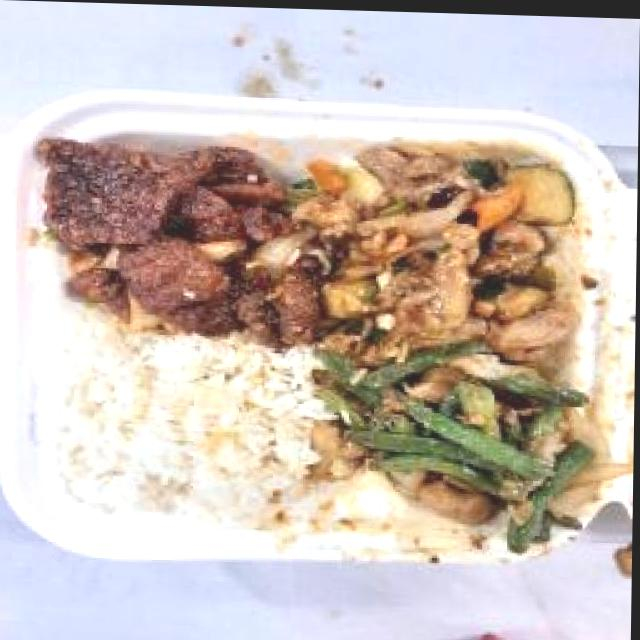Beijing Beef: (36, 129, 312, 338)
Kung Pao Chicken: (294, 130, 580, 350)
String Bean Chicken Breast: (339, 336, 609, 537)
White Steamed Rice: (49, 329, 324, 536)
